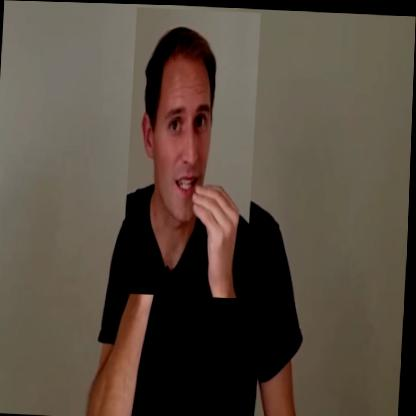Food: (123, 6, 260, 298)
